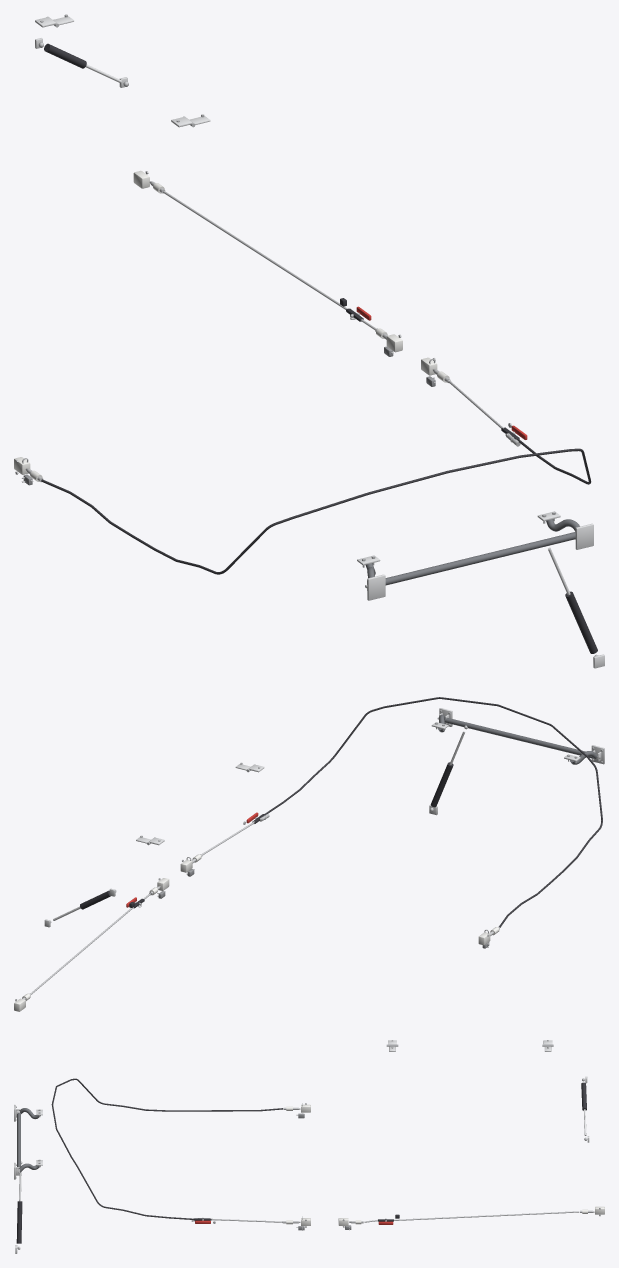
The model's file is da40-doors.glb.
The picture shows the model from 3 angles, top to bottom: view 1: azimuth 30°, elevation 25°; view 2: azimuth 150°, elevation 25°; view 3: azimuth 270°, elevation 25°; orthographic projection. The views are drawn at different scales.
Parts seen in each view (by area): view 1: Canopy hinge frame, Canopy teleflex cable to RH locking bolt, Canopy gas spring strut, Canopy hinges (firewall); view 2: Canopy teleflex cable to RH locking bolt, Canopy hinge frame, Canopy gas spring strut; view 3: Canopy teleflex cable to RH locking bolt, Canopy hinge frame, Passenger door long connecting rod, Canopy gas spring strut.
Part boxes in pixels (bbox=[...]): Canopy hinge frame: bbox=[357, 511, 579, 585]; Canopy teleflex cable to RH locking bolt: bbox=[41, 438, 591, 574]; Canopy gas spring strut: bbox=[548, 547, 604, 668]; Canopy hinges (firewall): bbox=[365, 523, 593, 600]; Canopy teleflex cable to RH locking bolt: bbox=[265, 697, 602, 927]; Canopy hinge frame: bbox=[431, 714, 597, 764]; Canopy gas spring strut: bbox=[429, 725, 467, 815]; Canopy teleflex cable to RH locking bolt: bbox=[51, 1078, 283, 1219]; Canopy hinge frame: bbox=[17, 1108, 42, 1172]; Passenger door long connecting rod: bbox=[394, 1211, 579, 1220]; Canopy gas spring strut: bbox=[15, 1161, 22, 1253].
Bounding box in the file's own units: 1.21 × 0.9006 × 2.58.
